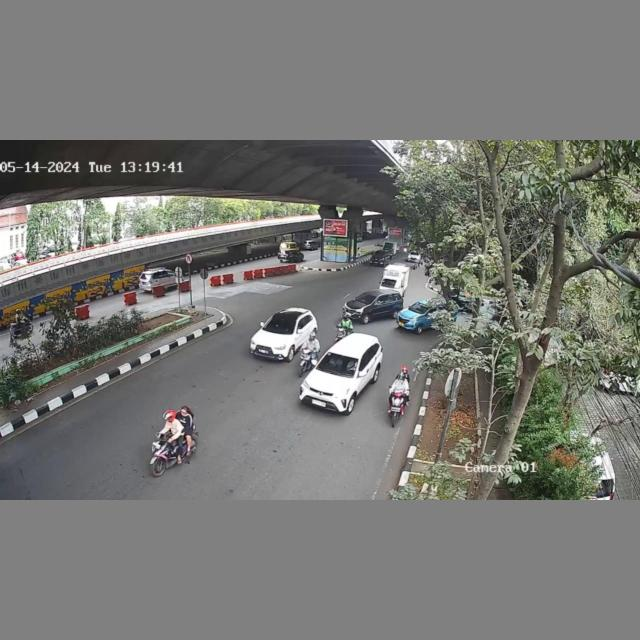windshield: (319, 352, 360, 377), (261, 315, 298, 334)
